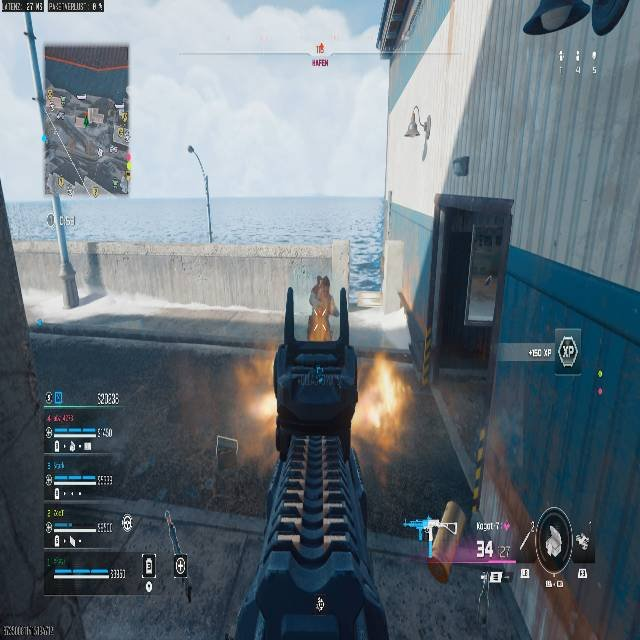head: (319, 276, 329, 288)
player: (309, 275, 333, 339)
